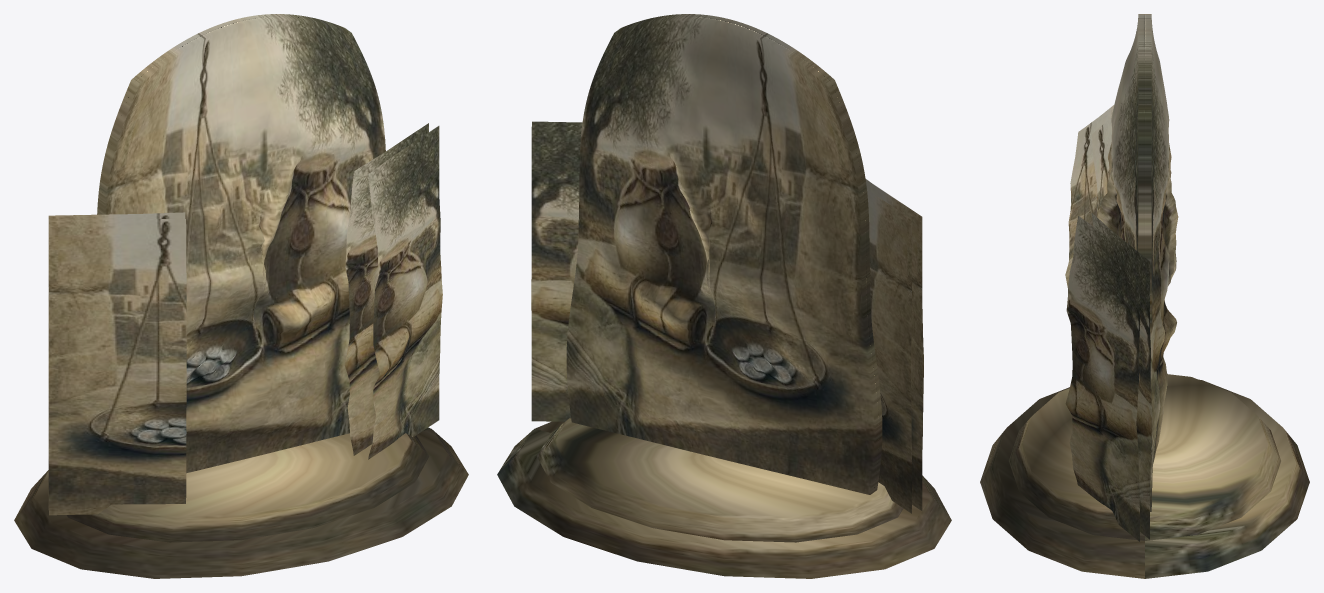
The model's file is a-future-and-a-hope-30.glb.
The picture shows the model from 3 angles, left to right: view 1: azimuth 30°, elevation 25°; view 2: azimuth 150°, elevation 25°; view 3: azimuth 270°, elevation 25°; orthographic projection. The views are drawn at different scales.
Parts seen in each view (by area): view 1: PaintingSculptureMonument; view 2: PaintingSculptureMonument; view 3: PaintingSculptureMonument.
Boxes of the visible parts, bbox=[...] form: PaintingSculptureMonument: bbox=[14, 14, 468, 578]; PaintingSculptureMonument: bbox=[497, 14, 951, 578]; PaintingSculptureMonument: bbox=[980, 14, 1309, 578].
Bounding box in the file's own units: 2.76 × 2.99 × 1.99.
Materials: 1 (1 with a texture image).
